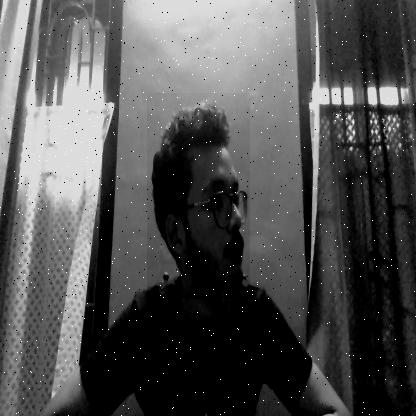Distracted: (147, 93, 250, 300)
